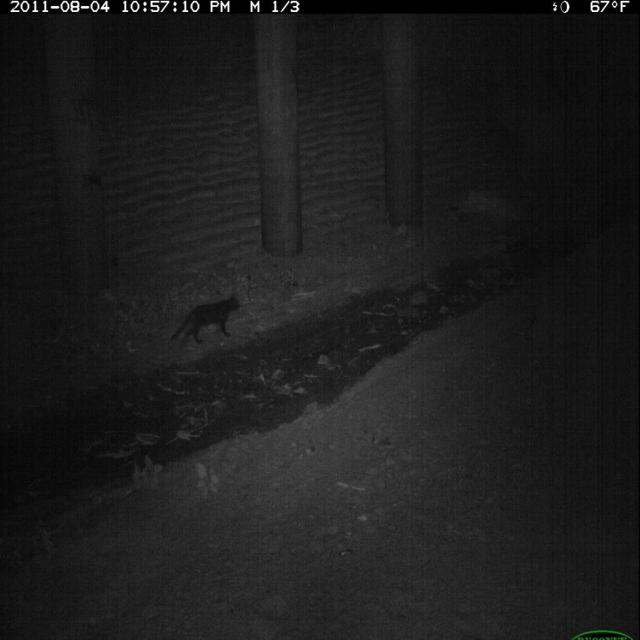cat: (165, 289, 249, 353)
